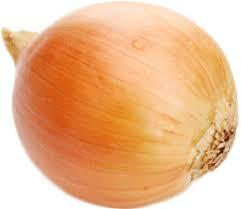non-mango: (1, 0, 238, 208)
